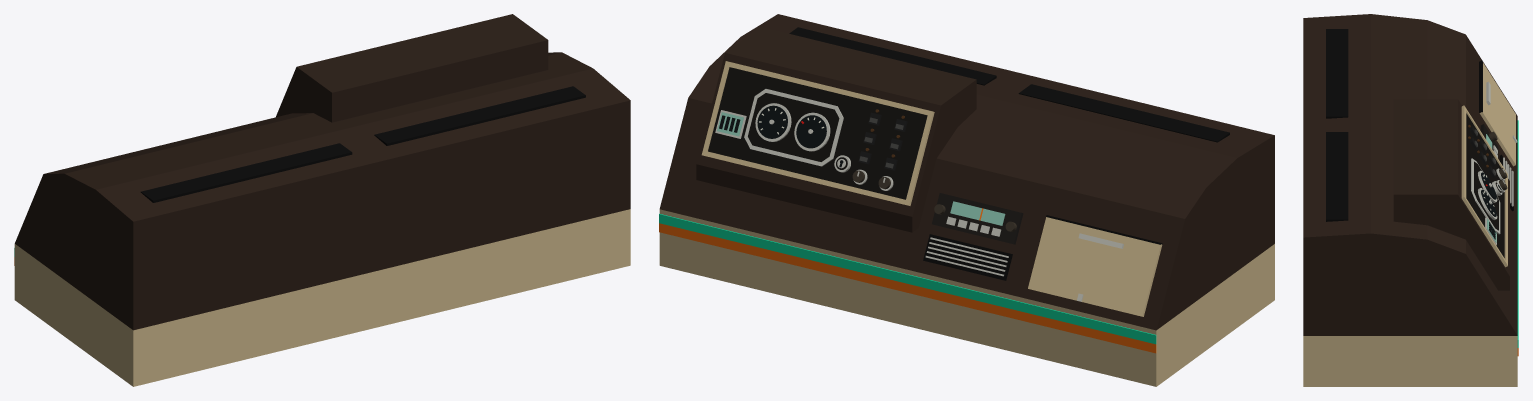
Rendered from dashboard.obj.
3 renders of one model, left to right at view 1: azimuth 30°, elevation 25°; view 2: azimuth 150°, elevation 25°; view 3: azimuth 270°, elevation 25°, orthographic. The views are drawn at different scales.
Visible parts, largest first — view 1: part0, part1, part4, part5, part6; view 2: part0, part1, part4, part7, part86, part3, part2, part5, part13, part80, part6, part70 (+7 smaller); view 3: part0, part1, part4, part6, part5, part86, part7, part8, part3, part13, part11, part9 (+3 smaller).
Part boxes in pixels (x1,y1,x2,y2): part0: [15, 52, 630, 330]; part1: [14, 209, 630, 386]; part4: [276, 14, 548, 122]; part5: [140, 143, 352, 202]; part6: [374, 86, 585, 145]; part0: [659, 14, 1274, 330]; part1: [659, 209, 1274, 386]; part4: [696, 27, 976, 232]; part7: [708, 67, 927, 199]; part86: [1028, 217, 1162, 316]; part3: [659, 213, 1156, 344]; part2: [659, 223, 1156, 353]; part5: [1018, 84, 1229, 142]; part13: [748, 93, 839, 161]; part80: [923, 234, 1012, 280]; part6: [789, 27, 996, 85]; part70: [932, 193, 1023, 244]; part0: [1303, 14, 1517, 335]; part1: [1303, 336, 1517, 386]; part4: [1393, 99, 1509, 290]; part6: [1326, 132, 1348, 221]; part5: [1326, 29, 1348, 118]; part86: [1479, 63, 1515, 166]; part7: [1466, 113, 1504, 257]; part8: [1461, 105, 1466, 201]; part3: [1517, 120, 1518, 347]; part13: [1474, 161, 1498, 230]; part11: [1464, 199, 1505, 263]; part9: [1503, 171, 1507, 267].
Size of the model in its own units: 2.3 by 0.87 by 0.954.
